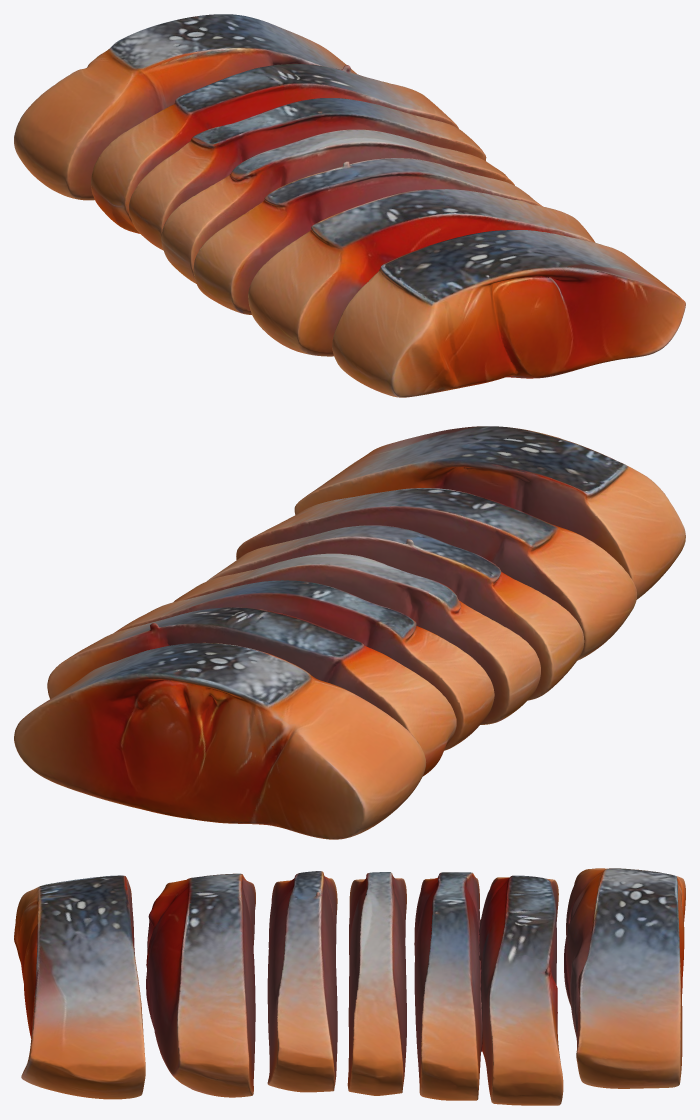
File: tripo_convert_3617af04-962a-4f81-8e33-f88bccc30c20.fbx
The picture shows the model from 3 angles, top to bottom: view 1: azimuth 30°, elevation 25°; view 2: azimuth 150°, elevation 25°; view 3: azimuth 270°, elevation 25°; orthographic projection. The views are drawn at different scales.
Parts seen in each view (by area): view 1: tripo_node_3617af04; view 2: tripo_node_3617af04; view 3: tripo_node_3617af04.
Part boxes in pixels (x1,y1,x2,y2): tripo_node_3617af04: [14, 14, 685, 397]; tripo_node_3617af04: [14, 426, 685, 839]; tripo_node_3617af04: [14, 868, 685, 1105].
Size of the model in its own units: 0.6026 by 0.2411 by 1.
